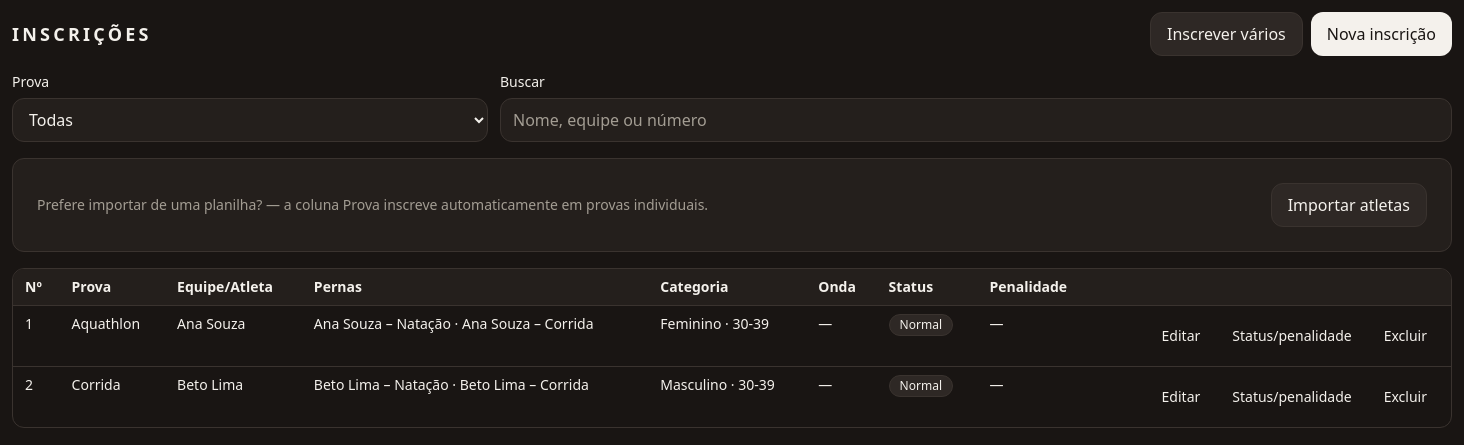
Test case: entries list › filters by race and by accent-insensitive search
The image size is (1464, 445).
Expected: the text "Ana Souza" is shown, 165,306 -> 302,366
Expected: the text "Beto Lima" is shown, 165,366 -> 302,427
Type "ana" into the field labelled "Buscar" at (976, 120), box 500,98 -> 1452,142
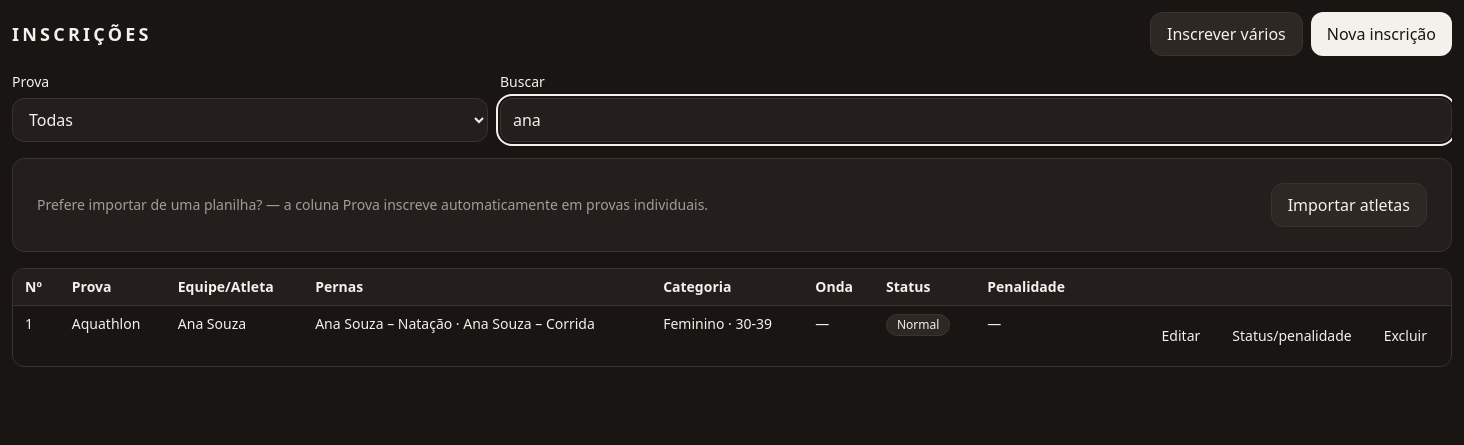
Expected: the text "Ana Souza" is shown, 166,306 -> 303,366
Now the text "Beto Lima" is gone
